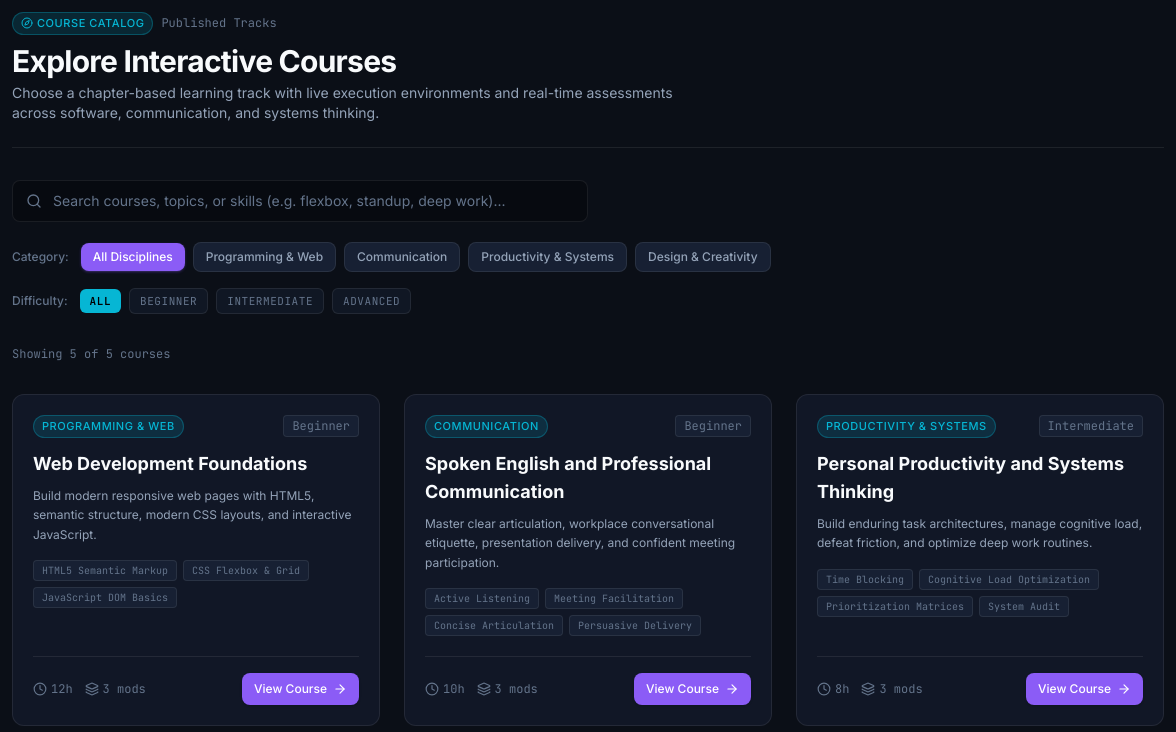
ExplorePage Interaction › displays empty state when no courses match and allows resetting filters
This screenshot has width=1176, height=732.
Replace the text in the field labelled "Search courses" with "quantum mechanics non-existent course" at (300, 200), box [12,180,588,222]
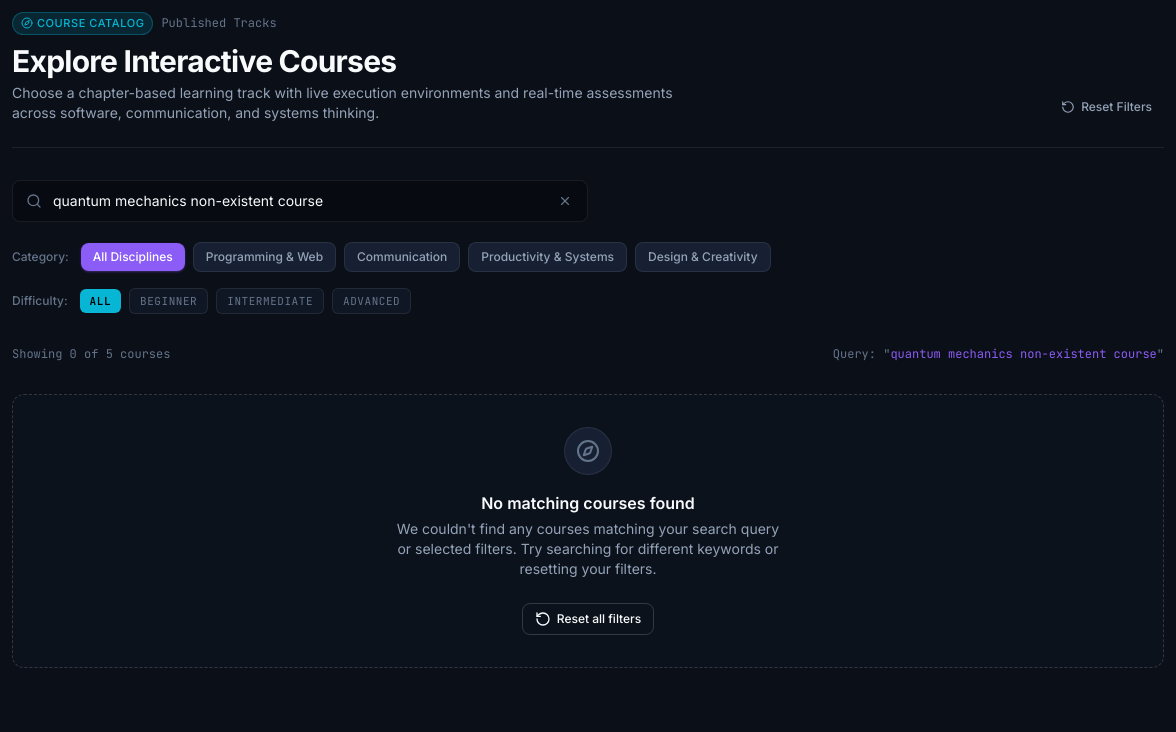
Now the heading "No matching courses found" is shown, box [481,491,695,515]
Now the text "Showing 0 of 5 courses" is shown, box [12,346,170,362]
Click the button "Reset all filters" at (588, 619), box [522,603,654,635]
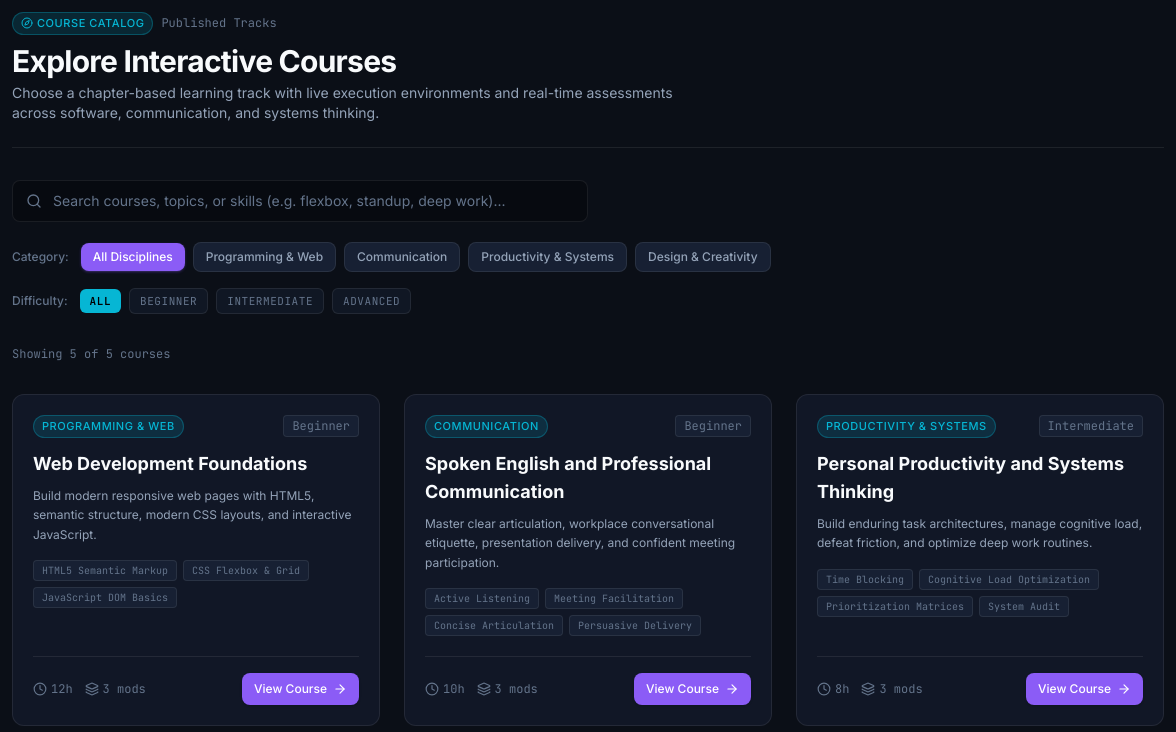
Now the heading "Web Development Foundations" is shown, box [33,452,307,474]
Now the text "Showing 5 of 5 courses" is shown, box [12,346,170,362]
